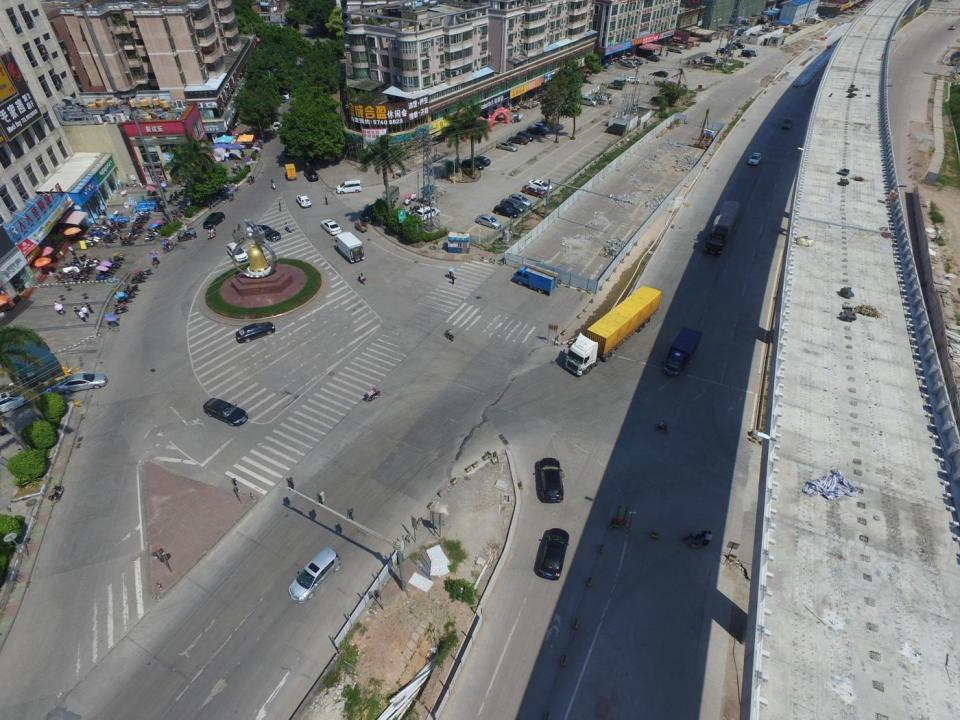car: (538, 527, 569, 580), (203, 397, 248, 427), (538, 458, 563, 503), (56, 373, 108, 393), (235, 321, 275, 344), (0, 390, 32, 415), (251, 224, 282, 242), (226, 241, 248, 263), (361, 202, 383, 222), (202, 212, 224, 231), (493, 203, 520, 217), (320, 218, 342, 235), (500, 199, 526, 212), (475, 214, 499, 228), (529, 179, 552, 193), (512, 192, 532, 208), (522, 185, 546, 198), (462, 158, 484, 172), (507, 134, 528, 146), (496, 141, 518, 152), (530, 122, 552, 132), (296, 195, 312, 208), (474, 155, 490, 167), (527, 128, 548, 137), (305, 167, 318, 181), (748, 152, 761, 165), (516, 132, 534, 140), (701, 55, 716, 64), (653, 70, 668, 79), (284, 145, 293, 159), (782, 118, 792, 130), (273, 121, 282, 134), (626, 77, 640, 85), (646, 54, 660, 61), (732, 42, 744, 49), (725, 44, 738, 50), (282, 90, 289, 101), (633, 58, 642, 65), (949, 24, 956, 30)
van: (564, 285, 662, 377), (287, 546, 342, 604), (703, 200, 739, 258), (663, 326, 703, 378), (513, 263, 557, 295), (332, 231, 365, 263), (416, 205, 440, 222), (337, 180, 361, 196), (383, 186, 399, 208), (284, 164, 297, 180), (609, 78, 626, 90), (579, 96, 598, 106), (667, 44, 684, 54), (716, 48, 732, 56), (620, 60, 636, 68), (740, 50, 753, 58), (746, 49, 758, 56)
